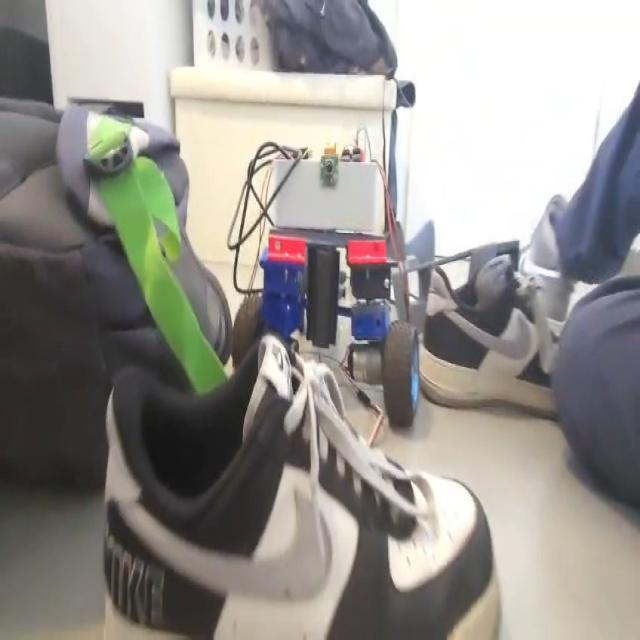Robot: (231, 138, 420, 426)
